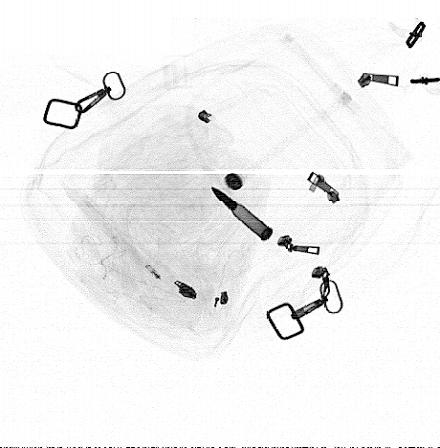Bullet: (211, 187, 273, 241)
